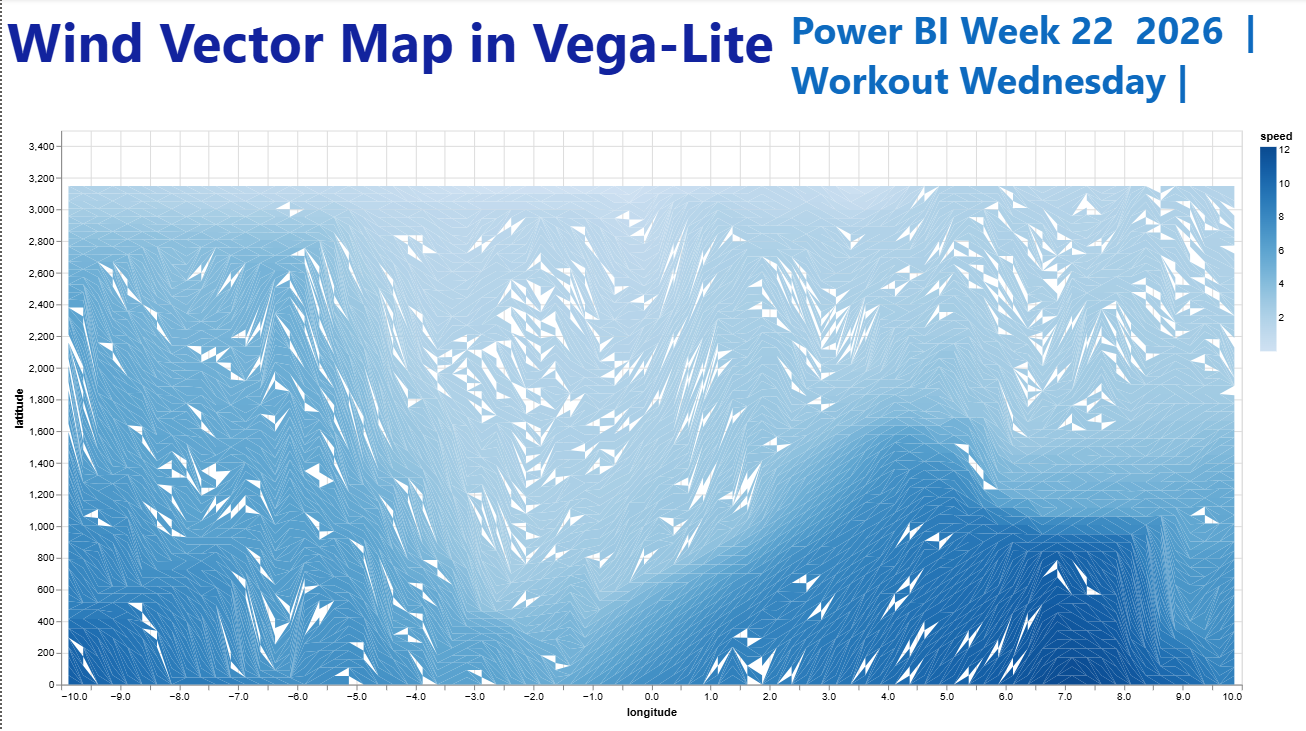

The dashboard page shown, as its layout file describes it:
{"tool":"powerbi","page":{"name":"Page 1","canvas":[1280,720],"ordinal":0},"visuals":[{"type":"deneb7E15AEF80B9E4D4F8E12924291ECE89A","fields":{"dataset":["windvectors.longitude","windvectors.latitude","windvectors.dir","windvectors.speed"]},"box":[0,119.4,1280.3,601],"z":0},{"type":"textbox","box":[0,0,767.1,119.4],"z":1},{"type":"textbox","box":[767.1,0,513.2,119.4],"z":2}]}

Visuals, with their boxes in screenshot pixels (x1, y1, x2, y2), scaled from the page's 1280x720 canvas onto the 1306x731 screenshot:
deneb7E15AEF80B9E4D4F8E12924291ECE89A - windvectors.longitude x windvectors.latitude: left=0, top=121, right=1305, bottom=730
textbox: left=0, top=0, right=783, bottom=121
textbox: left=783, top=0, right=1305, bottom=121
